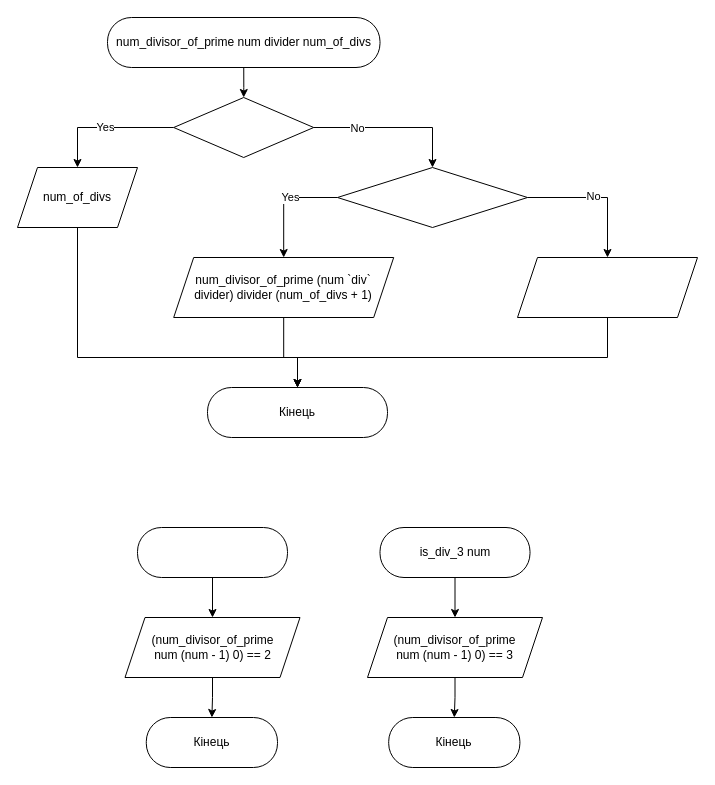
The diagram is 715 pixels wide and 785 high, and some of its shapes have lost their labels. Here are the shapes that lost their labels. From the top down, the centre of each, then its label:
[243,127]: divider = 1
[432,197]: ((num `mod` divider) == 0) && (is_prime divider)
[607,287]: num_divisor_of_prime num (divider - 1) num_of_divs
[212,552]: is_div_2 num
